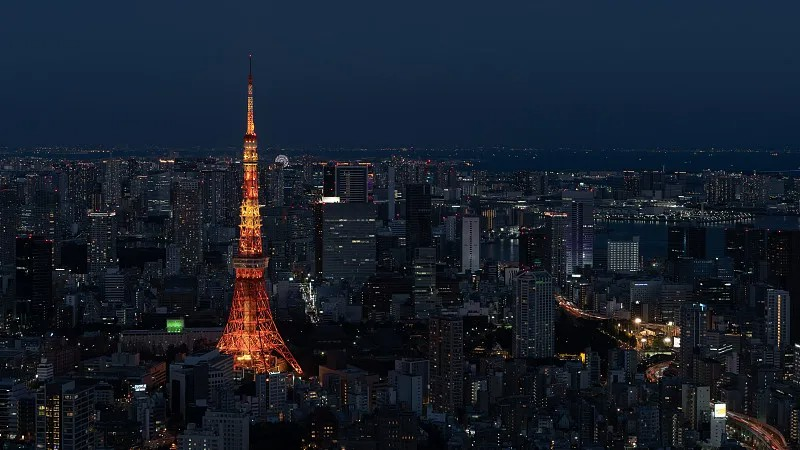Tokyo: (217, 51, 307, 377)
